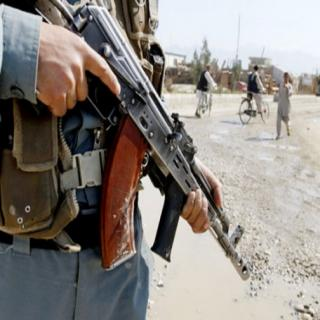gun: (47, 6, 250, 278)
